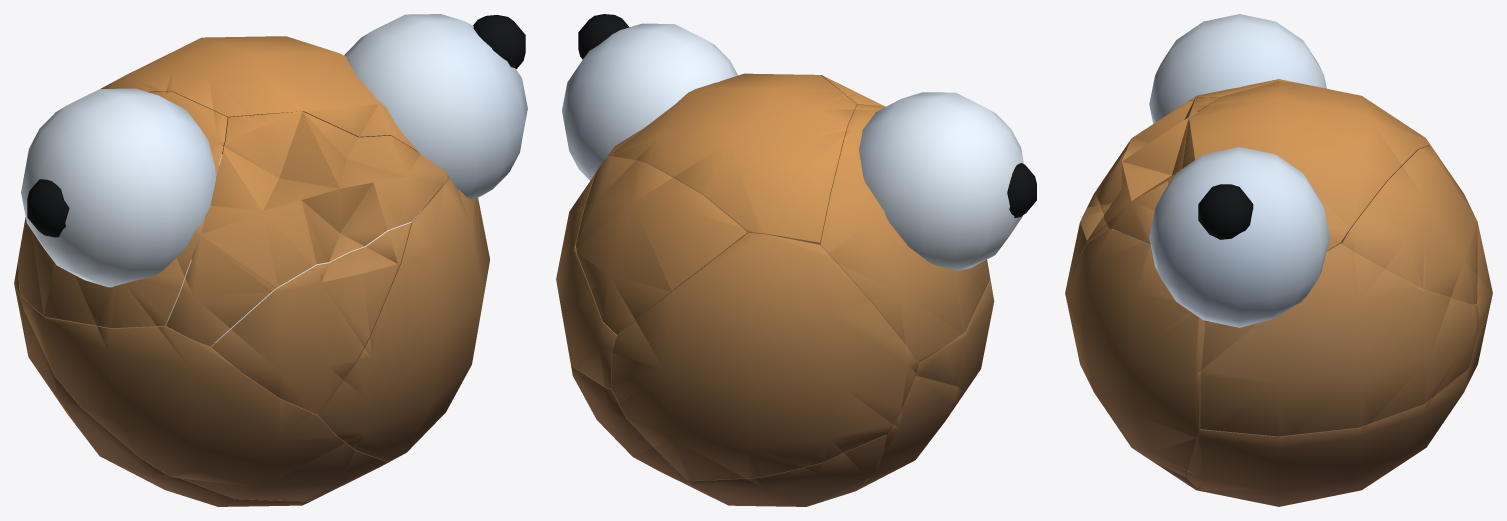
The model's file is ELCOCOMAMADISIMOFINALROTOALV.fbx.
The picture shows the model from 3 angles, left to right: view 1: azimuth 30°, elevation 25°; view 2: azimuth 150°, elevation 25°; view 3: azimuth 270°, elevation 25°; orthographic projection. The views are drawn at different scales.
Parts seen in each view (by area): view 1: Msh_Coco_Body_cell.002, Msh_Coco_Body_cell.009, Msh_Coco_Reye, Msh_Coco_Body_cell.003, Msh_Coco_Leye, Msh_Coco_Body_cell.004, Msh_Coco_Body_cell.010, Msh_Coco_Body_cell.007, Msh_Coco_Body_cell, Msh_Coco_Rpupil, Msh_Coco_Lpupil; view 2: Msh_Coco_Body_cell.008, Msh_Coco_Body_cell.010, Msh_Coco_Reye, Msh_Coco_Body_cell.006, Msh_Coco_Body_cell.007, Msh_Coco_Leye, Msh_Coco_Body_cell.011, Msh_Coco_Body_cell.001, Msh_Coco_Body_cell, Msh_Coco_Body_cell.009, Msh_Coco_Body_cell.005, Msh_Coco_Rpupil (+1 smaller); view 3: Msh_Coco_Body_cell.001, Msh_Coco_Leye, Msh_Coco_Body_cell.003, Msh_Coco_Body_cell.010, Msh_Coco_Body_cell.005, Msh_Coco_Body_cell.006, Msh_Coco_Reye, Msh_Coco_Body_cell.002, Msh_Coco_Lpupil, Msh_Coco_Body_cell.008, Msh_Coco_Body_cell.004.
Part boxes in pixels (x1,y1,x2,y2): Msh_Coco_Body_cell.002: (166, 111, 449, 346); Msh_Coco_Body_cell.009: (21, 297, 395, 501); Msh_Coco_Reye: (21, 88, 218, 287); Msh_Coco_Body_cell.003: (318, 178, 489, 461); Msh_Coco_Leye: (344, 14, 527, 209); Msh_Coco_Body_cell.004: (211, 222, 411, 414); Msh_Coco_Body_cell.010: (101, 36, 418, 154); Msh_Coco_Body_cell.007: (18, 91, 227, 328); Msh_Coco_Body_cell: (23, 309, 324, 506); Msh_Coco_Rpupil: (27, 179, 69, 237); Msh_Coco_Lpupil: (473, 15, 525, 69); Msh_Coco_Body_cell.008: (611, 232, 918, 480); Msh_Coco_Body_cell.010: (607, 73, 856, 244); Msh_Coco_Reye: (859, 92, 1023, 271); Msh_Coco_Body_cell.006: (575, 156, 747, 334); Msh_Coco_Body_cell.007: (820, 104, 989, 362); Msh_Coco_Leye: (562, 23, 737, 180); Msh_Coco_Body_cell.011: (685, 434, 886, 506); Msh_Coco_Body_cell.001: (556, 173, 627, 388); Msh_Coco_Body_cell: (837, 375, 963, 496); Msh_Coco_Body_cell.009: (915, 260, 994, 401); Msh_Coco_Body_cell.005: (571, 365, 700, 491); Msh_Coco_Rpupil: (1007, 163, 1036, 218); Msh_Coco_Body_cell.001: (1200, 243, 1478, 436); Msh_Coco_Leye: (1149, 147, 1329, 327); Msh_Coco_Body_cell.003: (1065, 229, 1207, 476); Msh_Coco_Body_cell.010: (1168, 81, 1429, 322); Msh_Coco_Body_cell.005: (1186, 366, 1469, 506); Msh_Coco_Body_cell.006: (1342, 145, 1477, 304); Msh_Coco_Reye: (1149, 14, 1326, 136); Msh_Coco_Body_cell.002: (1096, 97, 1219, 244); Msh_Coco_Lpupil: (1198, 184, 1253, 239); Msh_Coco_Body_cell.008: (1426, 138, 1492, 383); Msh_Coco_Body_cell.004: (1069, 191, 1112, 274).
Size of the model in its own units: 145 by 126 by 123.
